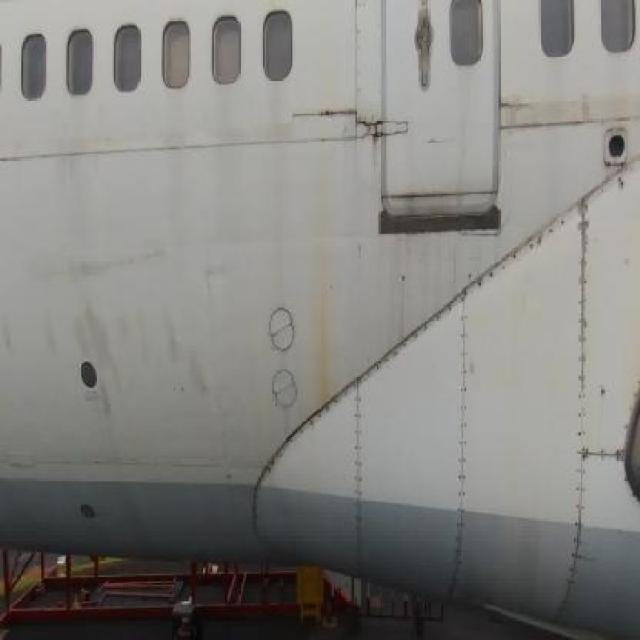Missing-Rivet: (568, 193, 602, 598), (259, 387, 347, 482), (484, 212, 567, 302), (371, 297, 451, 383), (452, 284, 474, 588), (348, 376, 366, 541)
Rust: (300, 181, 348, 410), (364, 111, 394, 180)
Scartch: (0, 300, 226, 448), (34, 242, 168, 293), (501, 90, 596, 142), (196, 247, 233, 295)
